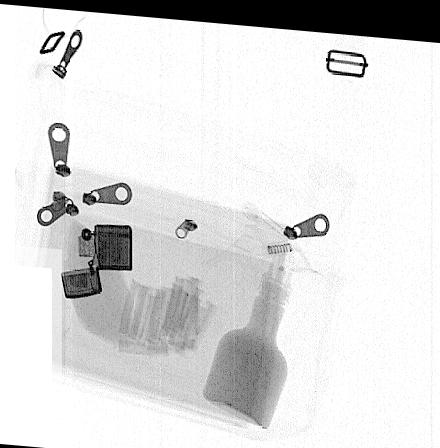Lighter: (59, 222, 132, 298)
